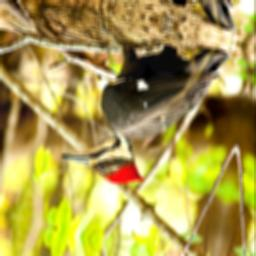Woodpecker: (56, 10, 229, 207)
